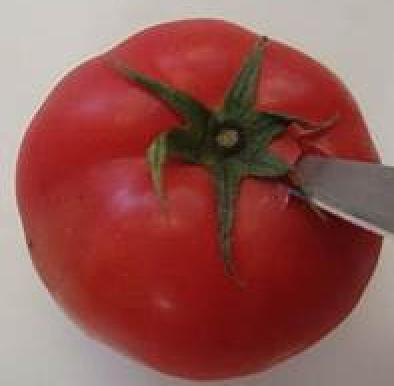tomato: (19, 14, 381, 374)
